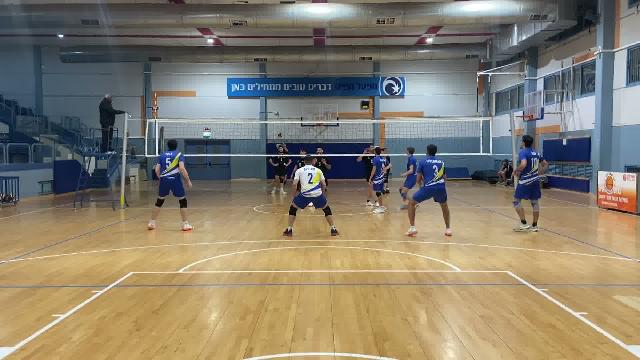ball: (277, 131, 287, 142)
